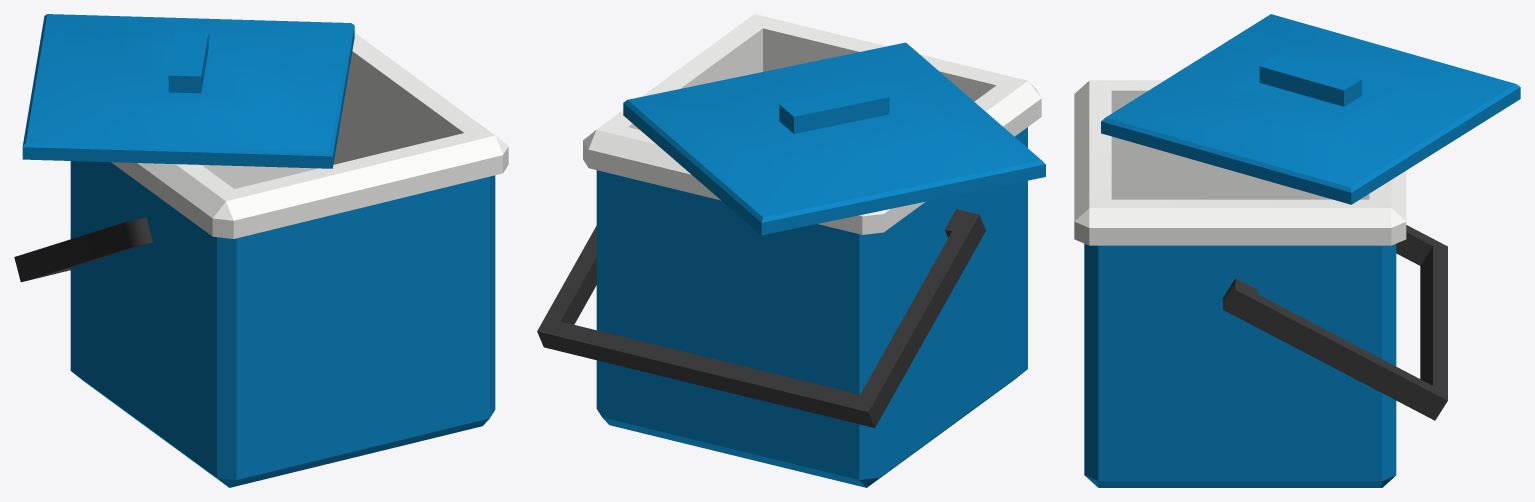
File: model_polytope_foodbox.fbx
The picture shows the model from 3 angles, left to right: view 1: azimuth 30°, elevation 25°; view 2: azimuth 150°, elevation 25°; view 3: azimuth 270°, elevation 25°; orthographic projection. The views are drawn at different scales.
Visible parts, largest first — view 1: model_polytope_foodbox; view 2: model_polytope_foodbox; view 3: model_polytope_foodbox.
Part boxes in pixels (x1,y1,x2,y2): model_polytope_foodbox: (14, 14, 508, 487); model_polytope_foodbox: (537, 14, 1045, 487); model_polytope_foodbox: (1074, 14, 1520, 487).
Size of the model in its own units: 50.27 by 39.61 by 48.88.
